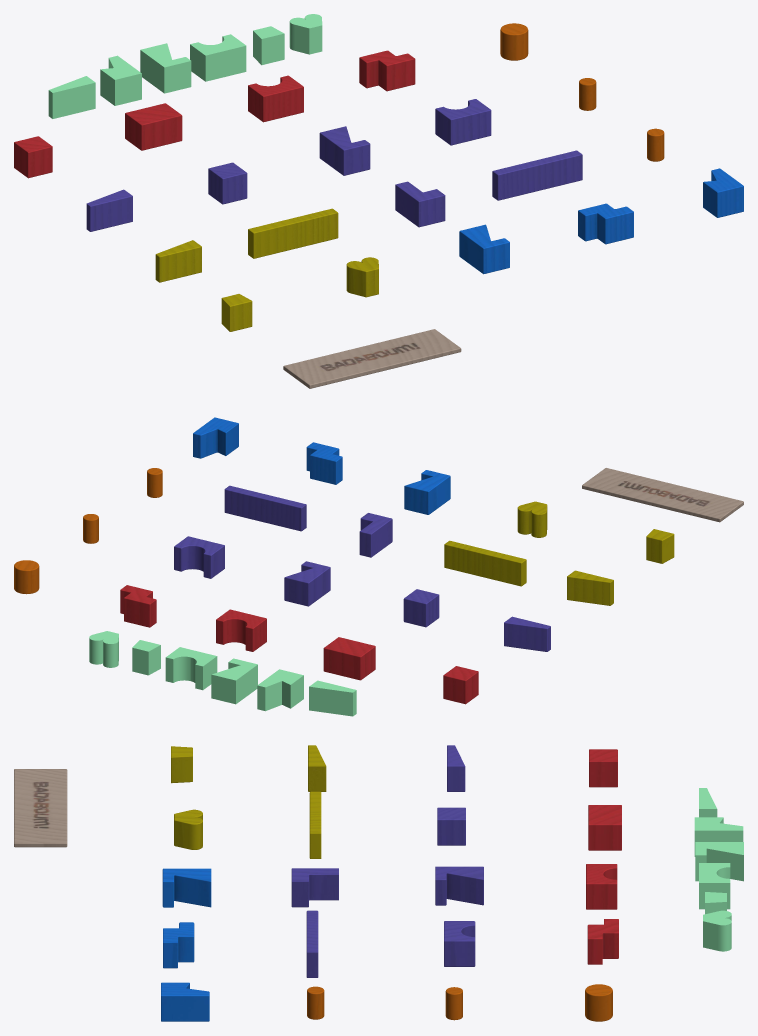
File: badaboum.glb
3 renders of one model, top to bottom at view 1: azimuth 30°, elevation 25°; view 2: azimuth 150°, elevation 25°; view 3: azimuth 270°, elevation 25°, orthographic. The views are drawn at different scales.
Parts seen in each view (by area): view 1: board, b_12, b_19, b_1, b_10, b_2, b_3, b_14, b_9, b_13, b_11, b_15 (+15 smaller); view 2: board, b_19, b_12, b_1, b_10, b_2, b_9, b_13, b_15, c_91, s_7, b_7 (+15 smaller); view 3: board, b_13, b_9, b_15, b_11, b_1, b_2, b_10, b_14, b_3, b_0, b_8 (+13 smaller).
Boxes of the visible parts, bbox=[...] form: board: bbox=[283, 329, 461, 388]; b_12: bbox=[492, 150, 582, 200]; b_19: bbox=[248, 208, 338, 258]; b_1: bbox=[125, 103, 182, 150]; b_10: bbox=[435, 99, 491, 145]; b_2: bbox=[248, 75, 303, 122]; b_3: bbox=[359, 50, 415, 91]; b_14: bbox=[578, 203, 633, 244]; b_9: bbox=[319, 126, 370, 175]; b_13: bbox=[459, 224, 509, 274]; b_11: bbox=[395, 181, 445, 227]; b_15: bbox=[703, 168, 743, 217]; board: bbox=[582, 468, 743, 522]; b_19: bbox=[444, 540, 526, 586]; b_12: bbox=[224, 485, 306, 531]; b_1: bbox=[323, 637, 375, 680]; b_10: bbox=[174, 536, 224, 578]; b_2: bbox=[216, 609, 266, 651]; b_9: bbox=[284, 561, 330, 606]; b_13: bbox=[404, 470, 450, 514]; b_15: bbox=[193, 417, 238, 458]; c_91: bbox=[211, 664, 257, 704]; s_7: bbox=[309, 680, 356, 716]; b_7: bbox=[504, 616, 550, 651]; board: bbox=[14, 769, 67, 847]; b_13: bbox=[162, 868, 211, 907]; b_9: bbox=[435, 866, 483, 905]; b_15: bbox=[161, 982, 209, 1021]; b_11: bbox=[291, 868, 338, 907]; b_1: bbox=[588, 805, 621, 850]; b_2: bbox=[586, 864, 617, 909]; b_10: bbox=[444, 921, 475, 966]; b_14: bbox=[163, 922, 194, 968]; b_3: bbox=[587, 919, 618, 964]; b_0: bbox=[589, 749, 617, 787]; b_8: bbox=[437, 807, 465, 845].
Bounding box in the file's own units: 51.24 × 2.5 × 63.03.
Materials: 2 (1 with a texture image).
